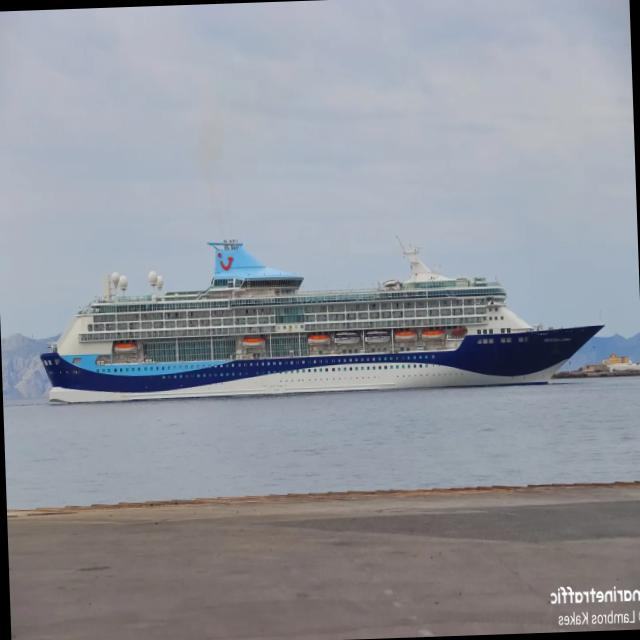Cruise: (41, 240, 602, 403)
